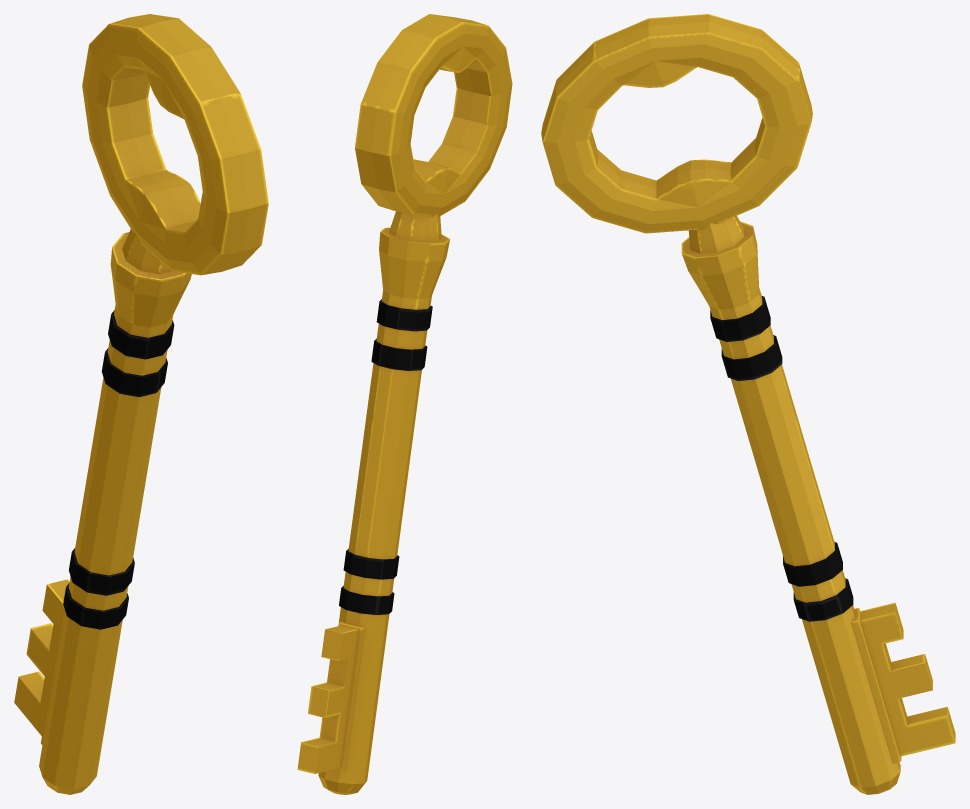
Rendered from gold_key.glb.
3 views of the same model, side by side, from view 1: azimuth 30°, elevation 25°; view 2: azimuth 150°, elevation 25°; view 3: azimuth 270°, elevation 25° (orthographic). The views are drawn at different scales.
Visible parts, largest first — view 1: Object_2; view 2: Object_2; view 3: Object_2.
Boxes of the visible parts, box(x1,y1,x2,y2) form: Object_2: box(14, 14, 268, 794); Object_2: box(297, 14, 512, 794); Object_2: box(541, 14, 955, 794).
Bounding box in the file's own units: 0.0784 × 0.8555 × 0.4179.
Materials: 1 (1 with a texture image).
